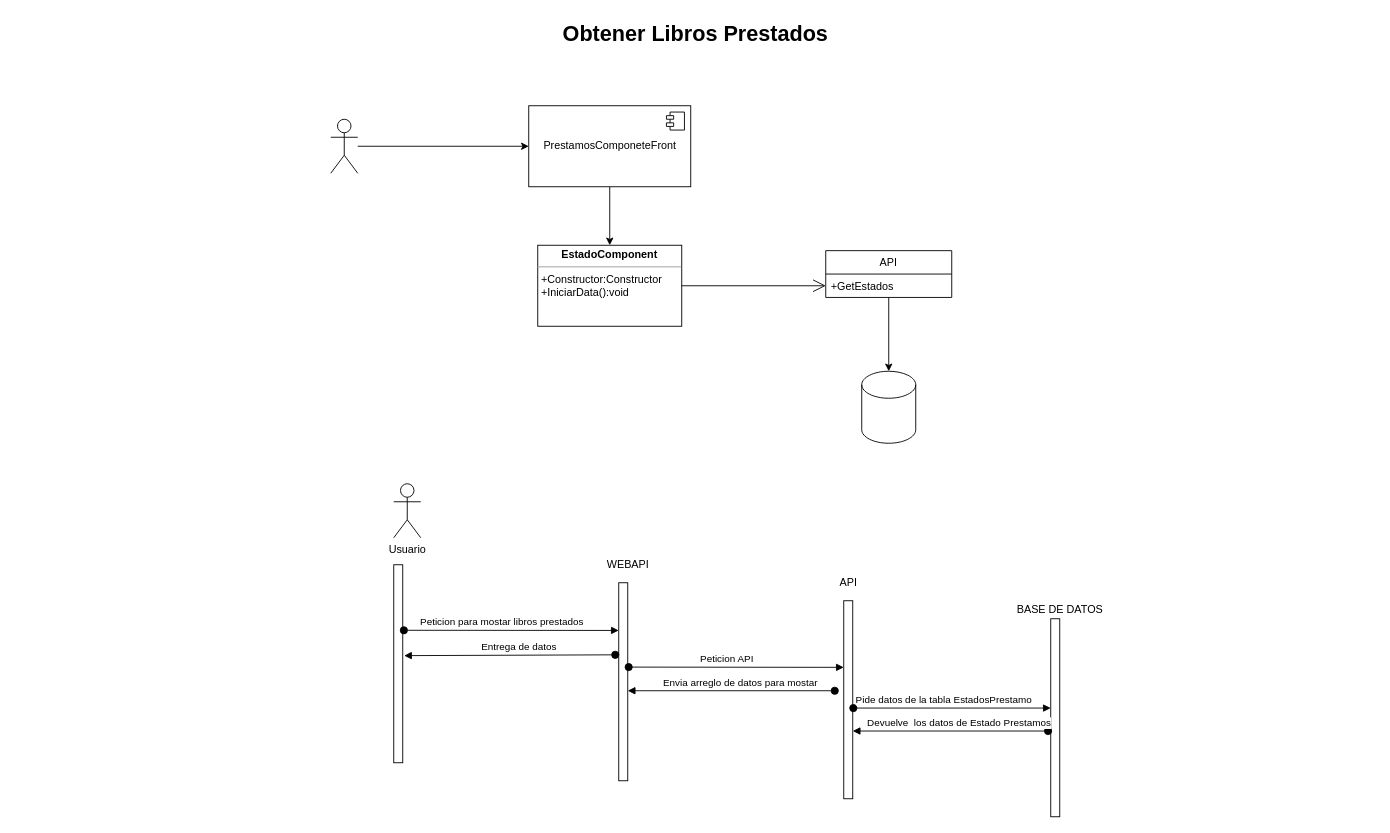
The diagram is 1390 pixels wide and 833 high, and some of its shapes have lost their labels. Here are the shapes that lost their labels. From the top down, the centre of each, then its label:
(344,145): Actor
(888,406): Libreria
